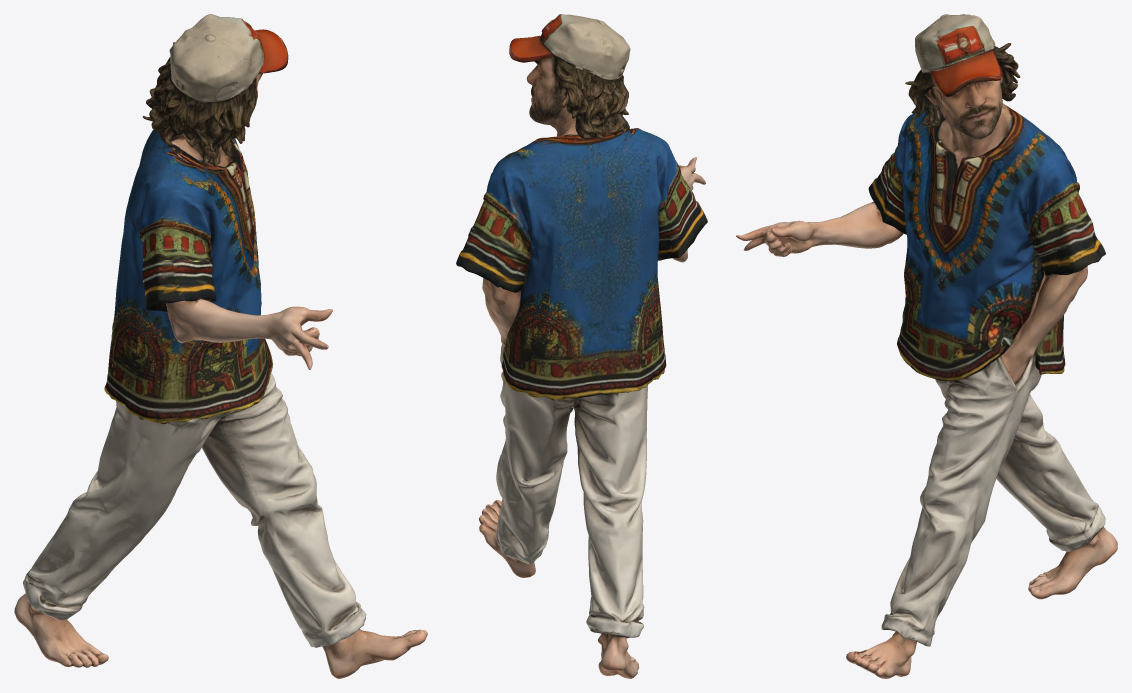
The model's file is iver-04.glb.
The picture shows the model from 3 angles, left to right: view 1: azimuth 30°, elevation 25°; view 2: azimuth 150°, elevation 25°; view 3: azimuth 270°, elevation 25°; orthographic projection. The views are drawn at different scales.
Visible parts, largest first — view 1: tripo_node_e2aaafbd-f4a5-4d4e-8316-ebac6a864a36; view 2: tripo_node_e2aaafbd-f4a5-4d4e-8316-ebac6a864a36; view 3: tripo_node_e2aaafbd-f4a5-4d4e-8316-ebac6a864a36.
Part boxes in pixels (<box>): tripo_node_e2aaafbd-f4a5-4d4e-8316-ebac6a864a36: <box>14,14,427,678</box>; tripo_node_e2aaafbd-f4a5-4d4e-8316-ebac6a864a36: <box>456,14,707,678</box>; tripo_node_e2aaafbd-f4a5-4d4e-8316-ebac6a864a36: <box>736,14,1117,678</box>.
Bounding box in the file's own units: 0.4485 × 0.9999 × 0.5604.
1 material, 1 textured.
